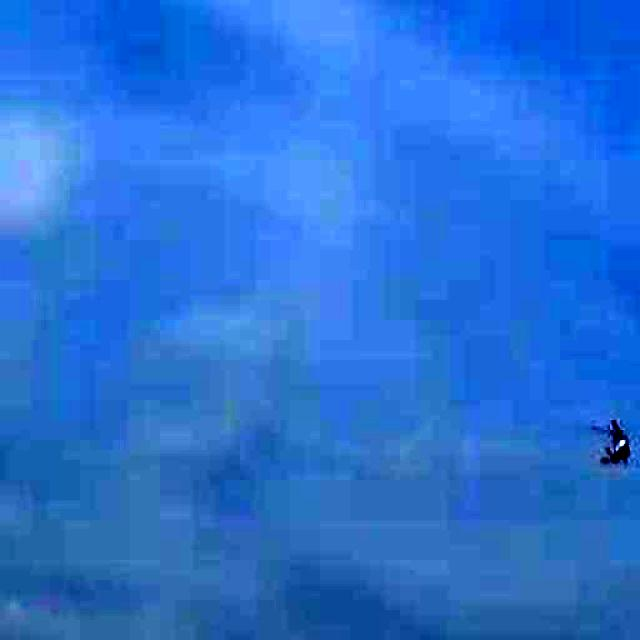drone: (582, 415, 640, 471)
